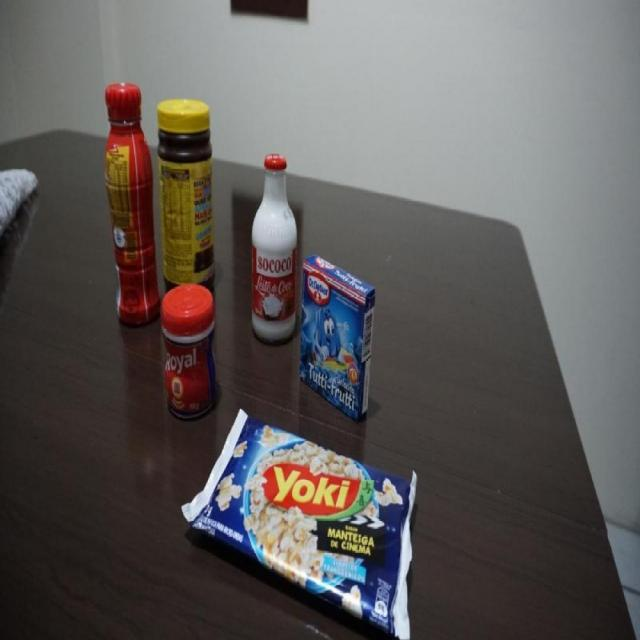ChocolateMilk: (103, 81, 161, 324)
ChocolatePowder: (155, 97, 216, 295)
CoconutMilk: (250, 152, 298, 346)
Gelatine: (298, 252, 376, 428)
Popcorn: (183, 407, 420, 640)
Yeast: (159, 282, 220, 418)
